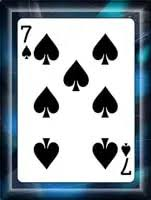seven of spades: (18, 19, 136, 182)
